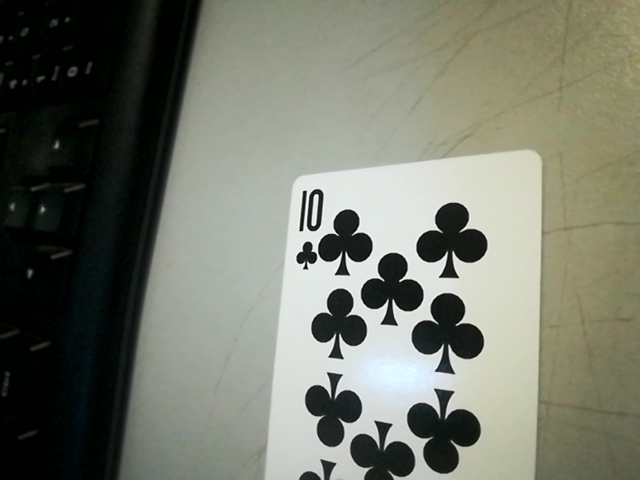mh 10: (283, 180, 330, 270)
